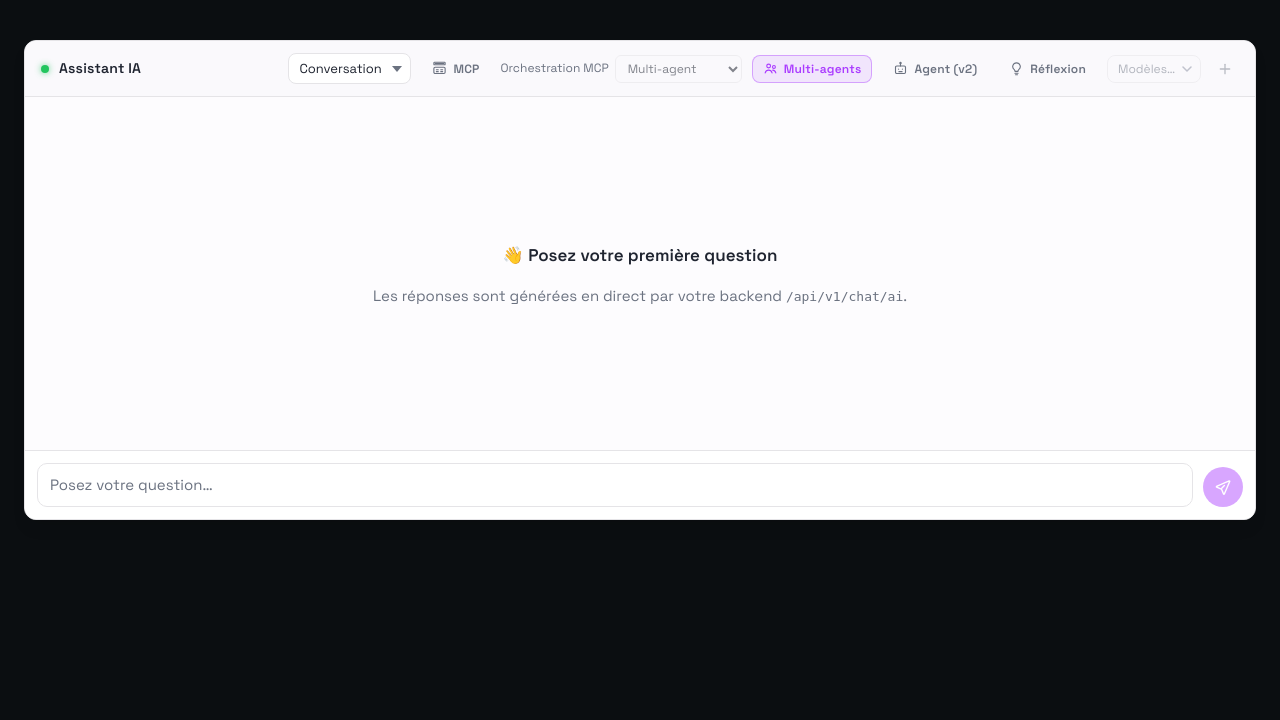
Test: ChatWindow - sélecteur d’orchestration MCP › ChatWindow - réponse finale multi-agents › affiche final_answer lorsque agent.done ne contient pas answer
The width and height of the screenshot is (1280, 720).
Type "Analyse multi-agents" into the text box named "Votre message" at (615, 485), box x1=37 y1=463 x2=1193 y2=507
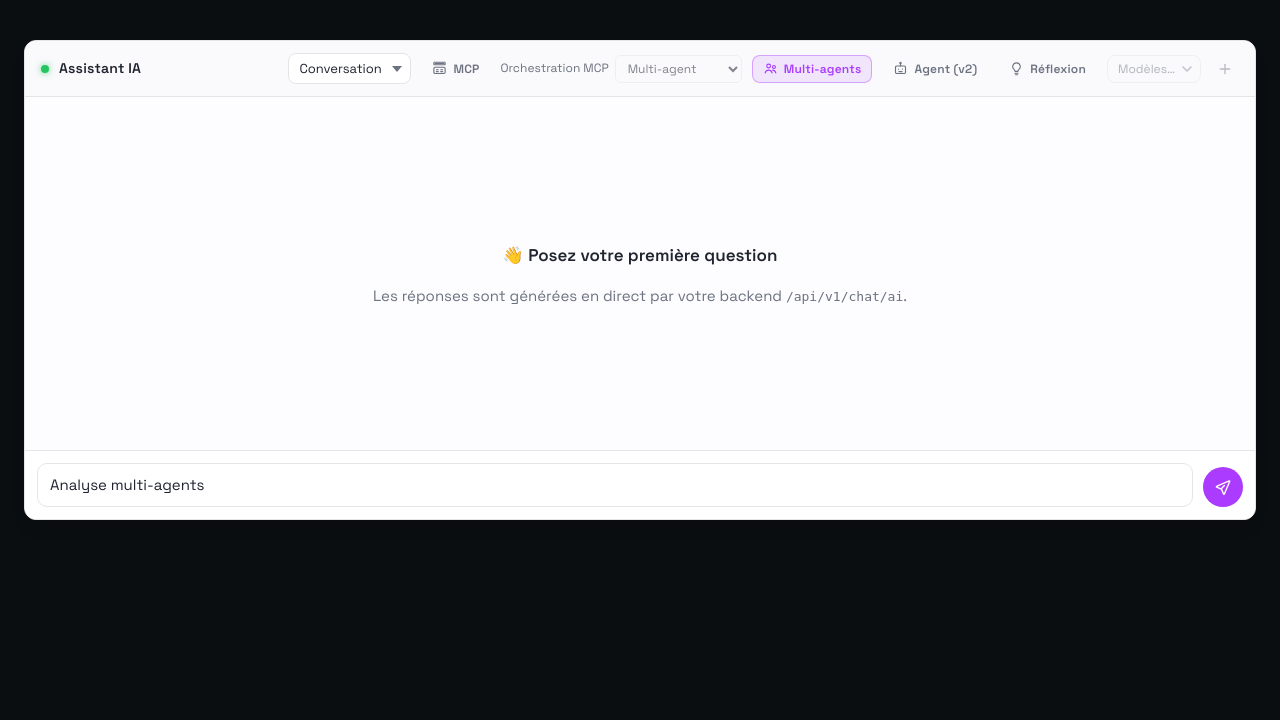
Click the button named "Envoyer" at (1223, 487), box x1=1203 y1=467 x2=1243 y2=507
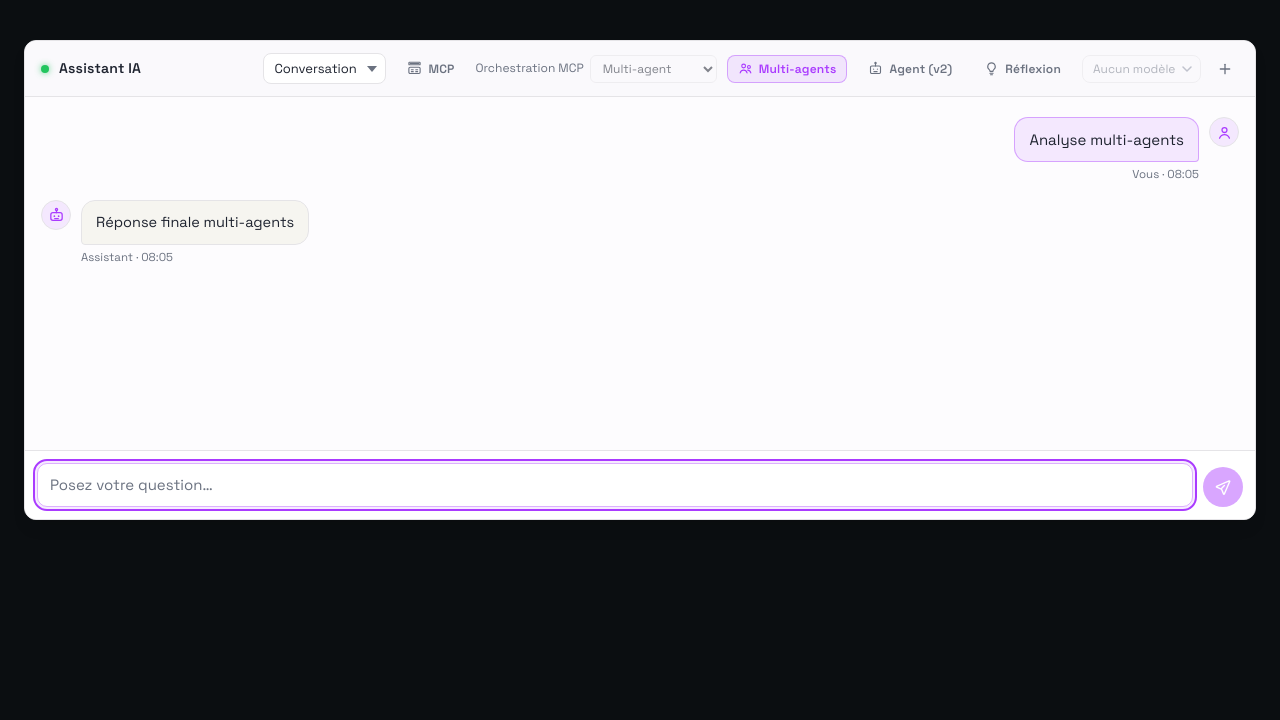
Expected: the text "Réponse finale multi-agents" is shown, x1=96 y1=211 x2=294 y2=234
